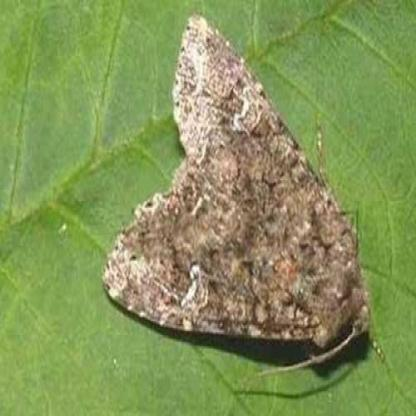armyworm: (101, 14, 384, 376)
